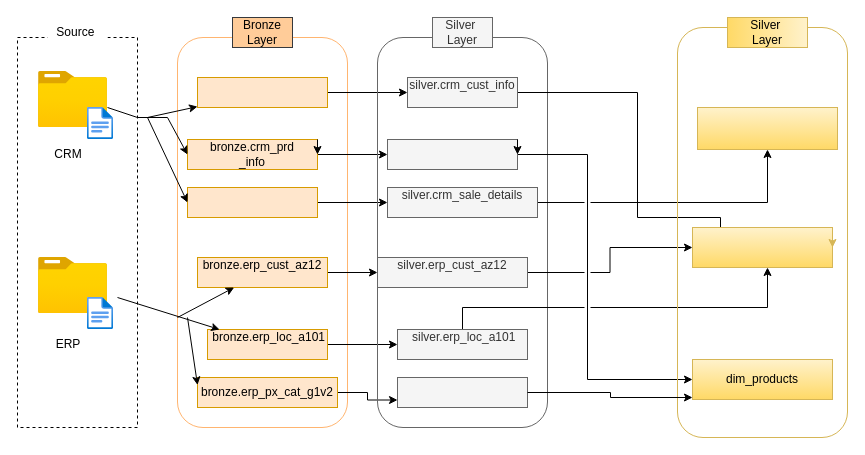
The diagram is 865 pixels wide and 455 high, and some of its shapes have lost their labels. The shapes that lost their labels are listed below. From the top down, each one's box as (x1, y1, x2, y2) in pixels, then its label:
(196, 76, 328, 108): bronze.crm_cust_info
(696, 106, 838, 150): Fact_sales
(386, 138, 518, 170): silver.crm_prd _info
(186, 186, 318, 218): bronze.crm_sale_details
(692, 226, 832, 268): dim_customers
(396, 376, 528, 408): silver.erp_px_cat_g1v2
